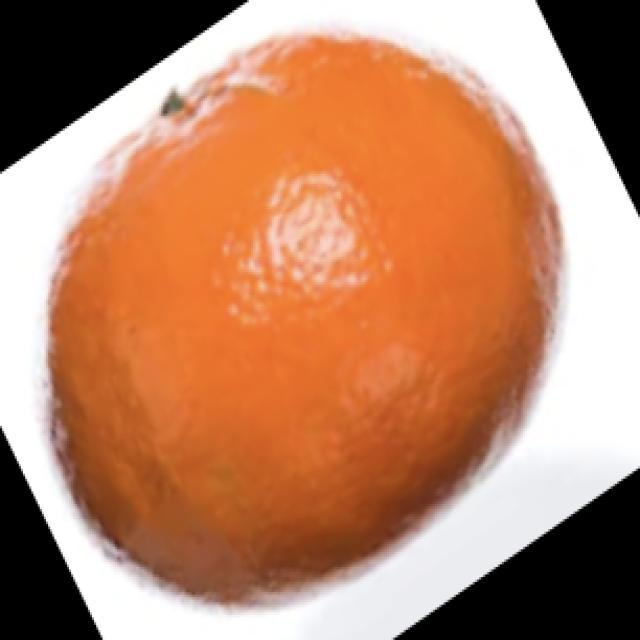Orange: (43, 26, 565, 607)
